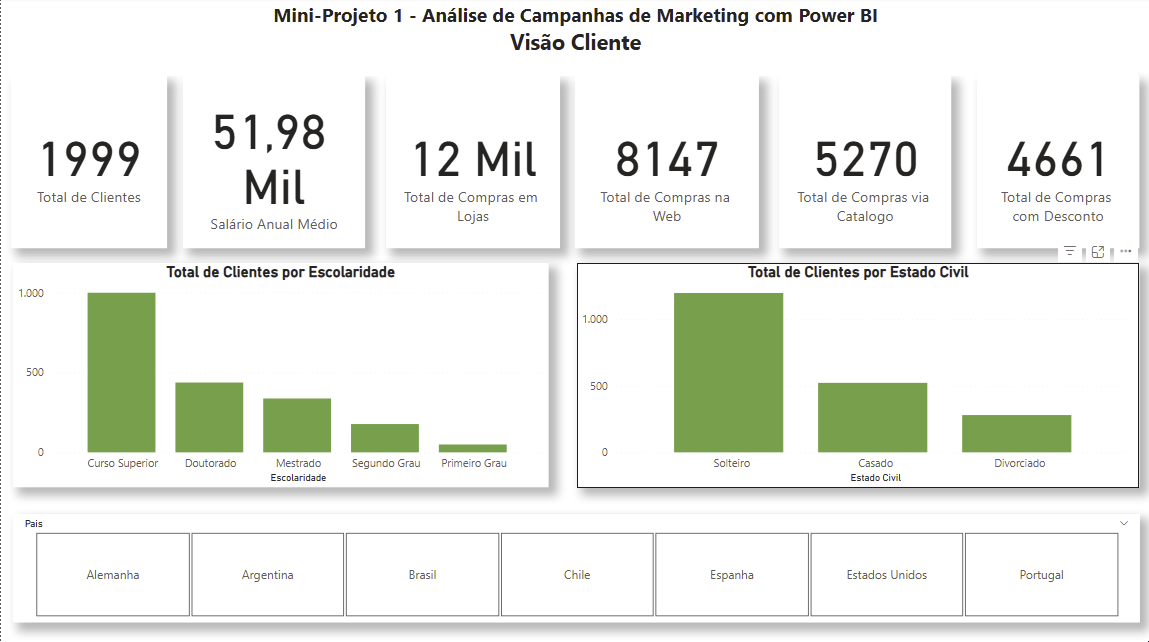

The dashboard page shown, as its layout file describes it:
{"tool":"powerbi","page":{"name":"Visão Cliente","canvas":[1280,720],"ordinal":0},"visuals":[{"type":"card","fields":{"Values":["CountNonNull(DadosMarketing.ID)"]},"box":[11.2,87.7,173.5,192.2],"z":0},{"type":"card","fields":{"Values":["Avg(DadosMarketing.Salario Anual)"]},"box":[203.4,87.7,203.4,192.2],"z":1000},{"type":"card","fields":{"Values":["Sum(DadosMarketing.Numero de Compras na Loja)"]},"box":[429.2,87.7,194.1,192.2],"z":2000},{"type":"card","fields":{"Values":["Sum(DadosMarketing.Numero de Compras na Web)"]},"box":[640,87.7,205.2,192.2],"z":3000},{"type":"card","fields":{"Values":["Sum(DadosMarketing.Numero de Compras com Desconto)"]},"box":[1087.8,87.7,181,192.2],"z":4000},{"type":"card","fields":{"Values":["Sum(DadosMarketing.Numero de Compras via Catalogo)"]},"box":[867.6,87.7,192.2,192.2],"z":5000},{"type":"textbox","box":[13,0,1254.1,88.5],"z":6000},{"type":"clusteredColumnChart","title":"Total de Clientes por Escolaridade","fields":{"Category":["DadosMarketing.Escolaridade"],"Y":["CountNonNull(DadosMarketing.ID)"]},"box":[13.1,296.7,597.1,250],"z":7000},{"type":"clusteredColumnChart","title":"Total de Clientes por Estado Civil","fields":{"Category":["DadosMarketing.Estado Civil"],"Y":["CountNonNull(DadosMarketing.ID)"]},"box":[641.9,296.7,626.9,250],"z":8000},{"type":"slicer","fields":{"Values":["DadosMarketing.Pais"]},"box":[13.1,576.6,1255.7,121.3],"z":8001}]}

Visuals, with their boxes in screenshot pixels (x1, y1, x2, y2), scaled from the page's 1280x720 canvas onto the 1149x642 screenshot:
card - CountNonNull(DadosMarketing.ID): bbox=(10, 78, 166, 250)
card - Avg(DadosMarketing.Salario Anual): bbox=(183, 78, 365, 250)
card - Sum(DadosMarketing.Numero de Compras na Loja): bbox=(385, 78, 560, 250)
card - Sum(DadosMarketing.Numero de Compras na Web): bbox=(574, 78, 759, 250)
card - Sum(DadosMarketing.Numero de Compras com Desconto): bbox=(976, 78, 1139, 250)
card - Sum(DadosMarketing.Numero de Compras via Catalogo): bbox=(779, 78, 951, 250)
textbox: bbox=(12, 0, 1137, 79)
"Total de Clientes por Escolaridade" clusteredColumnChart: bbox=(12, 265, 548, 487)
"Total de Clientes por Estado Civil" clusteredColumnChart: bbox=(576, 265, 1139, 487)
slicer - DadosMarketing.Pais: bbox=(12, 514, 1139, 622)
